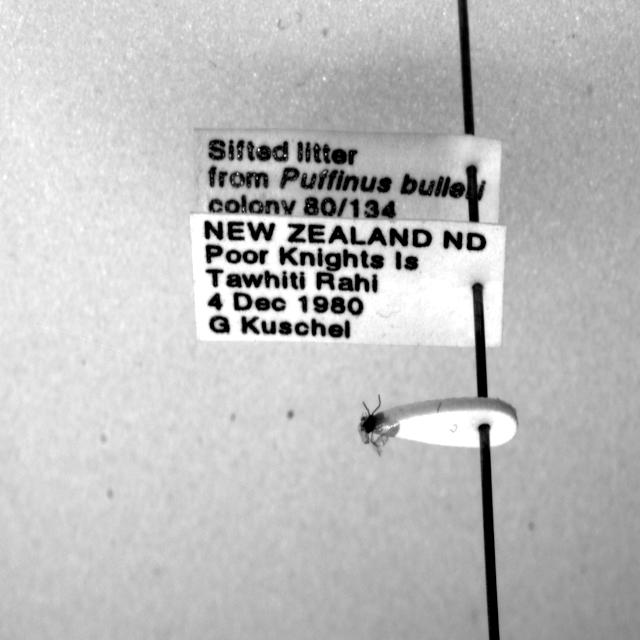typed_label: (190, 214, 505, 347), (194, 129, 501, 223)
